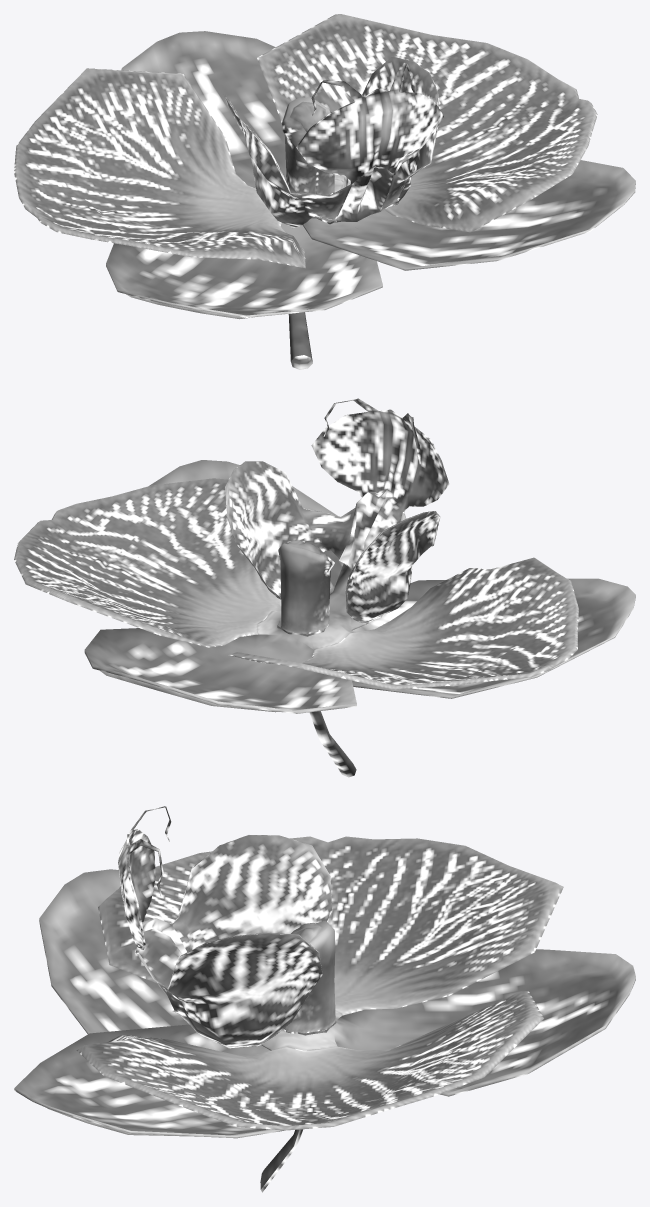
Rendered from moth-orchid.gltf.
The picture shows the model from 3 angles, top to bottom: view 1: azimuth 30°, elevation 25°; view 2: azimuth 150°, elevation 25°; view 3: azimuth 270°, elevation 25°; orthographic projection. The views are drawn at different scales.
Visible parts, largest first — view 1: moth-orchid1; view 2: moth-orchid1; view 3: moth-orchid1.
Part boxes in pixels (bbox=[...]): moth-orchid1: bbox=[14, 14, 635, 369]; moth-orchid1: bbox=[14, 398, 635, 777]; moth-orchid1: bbox=[14, 806, 635, 1192].
Bounding box in the file's own units: 0.1821 × 0.1072 × 0.1613.
1 material, 1 textured.
